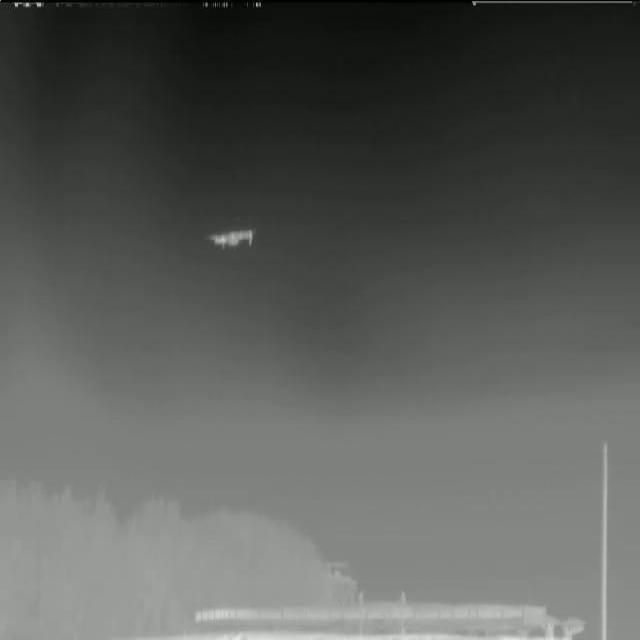DRONE: (199, 218, 263, 260)
